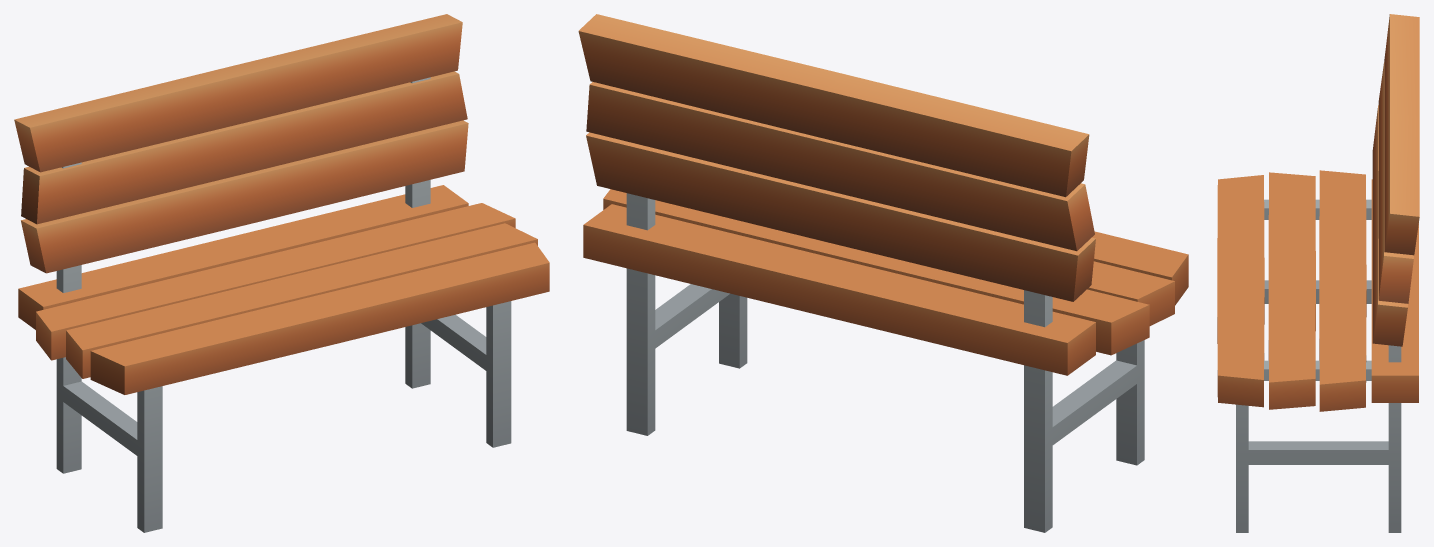
Rendered from Bench.fbx.
3 renders of one model, left to right at view 1: azimuth 30°, elevation 25°; view 2: azimuth 150°, elevation 25°; view 3: azimuth 270°, elevation 25°, orthographic. The views are drawn at different scales.
Visible parts, largest first — view 1: Bench; view 2: Bench; view 3: Bench.
Part boxes in pixels (left/top/right/bottom): Bench: left=14, top=14, right=549, bottom=532; Bench: left=578, top=14, right=1188, bottom=532; Bench: left=1217, top=14, right=1419, bottom=532.
Size of the model in its own units: 0.7621 by 0.555 by 0.3043.
